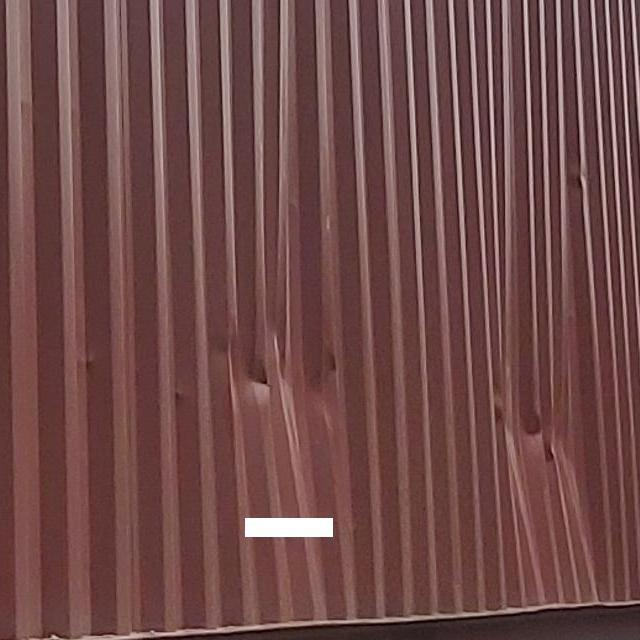dent: (496, 169, 613, 527), (232, 198, 342, 481)
